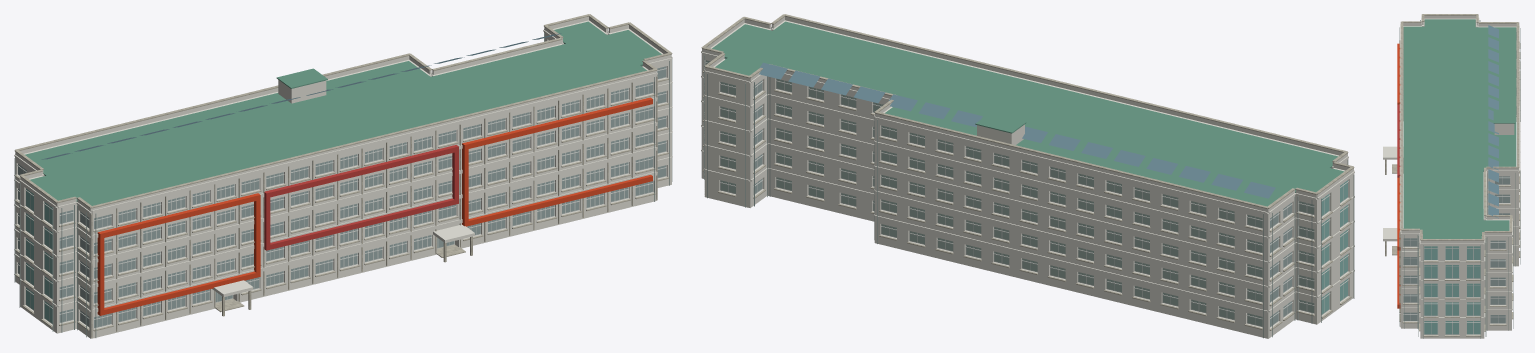
The picture shows the model from 3 angles, left to right: view 1: azimuth 30°, elevation 25°; view 2: azimuth 150°, elevation 25°; view 3: azimuth 270°, elevation 25°; orthographic projection. The views are drawn at different scales.
Parts seen in each view (by area): view 1: main__wall, main__roof, main__glass, main__stone, main__frame, main__orange, main__red, main__metal, main__stairglass, main__solar; view 2: main__wall, main__roof, main__rear-glass, main__stone, main__frame, main__solar, main__metal, main__stairglass, main__glass; view 3: main__roof, main__wall, main__stone, main__stairglass, main__frame, main__glass, main__solar, main__metal, main__orange, main__red, main.
Boxes of the visible parts, <box> form: main__wall: <box>14,16,672,338</box>; main__roof: <box>25,21,661,205</box>; main__glass: <box>18,66,665,327</box>; main__stone: <box>14,14,672,337</box>; main__frame: <box>17,66,666,328</box>; main__orange: <box>97,97,652,315</box>; main__red: <box>264,145,458,250</box>; main__metal: <box>14,33,672,337</box>; main__stairglass: <box>26,188,52,323</box>; main__solar: <box>41,33,561,159</box>; main__wall: <box>701,16,1354,338</box>; main__roof: <box>712,21,1344,206</box>; main__rear-glass: <box>705,60,1314,326</box>; main__stone: <box>701,14,1354,330</box>; main__frame: <box>705,60,1348,327</box>; main__solar: <box>759,62,1275,198</box>; main__metal: <box>704,28,1354,338</box>; main__stairglass: <box>724,58,1347,314</box>; main__glass: <box>753,80,1331,326</box>; main__roof: <box>1403,19,1516,238</box>; main__wall: <box>1383,15,1519,338</box>; main__stone: <box>1385,14,1520,336</box>; main__stairglass: <box>1424,246,1480,334</box>; main__frame: <box>1403,176,1510,334</box>; main__glass: <box>1403,32,1516,323</box>; main__solar: <box>1488,25,1498,218</box>; main__metal: <box>1399,20,1520,338</box>; main__orange: <box>1397,43,1400,308</box>; main__red: <box>1397,104,1400,177</box>; main: <box>1392,164,1397,255</box>.
Size of the model in its own units: 88.98 by 19.55 by 22.83.
14 materials, 3 textured.
